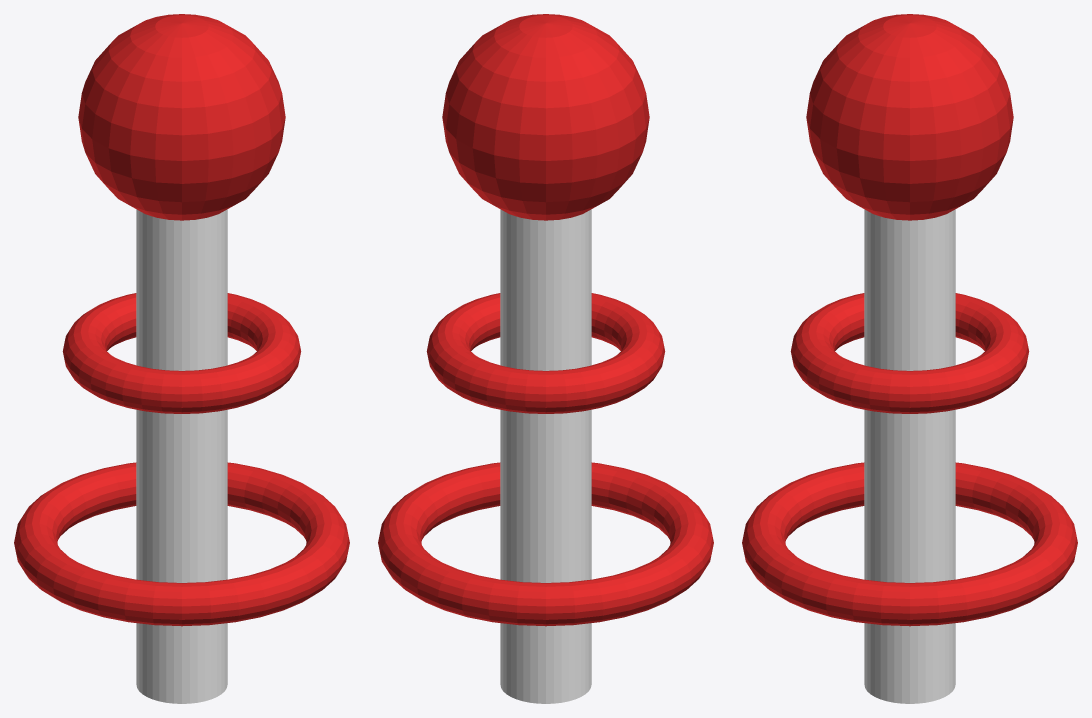
Rendered from antenna.dae.
The picture shows the model from 3 angles, left to right: view 1: azimuth 30°, elevation 25°; view 2: azimuth 150°, elevation 25°; view 3: azimuth 270°, elevation 25°; orthographic projection.
Visible parts, largest first — view 1: Cylinder.1, Sphere, Torus.1, Torus; view 2: Cylinder.1, Sphere, Torus.1, Torus; view 3: Cylinder.1, Sphere, Torus.1, Torus.
Part boxes in pixels (<box>): Cylinder.1: <box>136,209,227,703</box>; Sphere: <box>78,14,285,220</box>; Torus.1: <box>14,462,349,626</box>; Torus: <box>62,293,301,413</box>; Cylinder.1: <box>500,209,591,703</box>; Sphere: <box>442,14,649,220</box>; Torus.1: <box>378,462,713,626</box>; Torus: <box>426,293,665,413</box>; Cylinder.1: <box>864,209,955,703</box>; Sphere: <box>806,14,1013,220</box>; Torus.1: <box>742,462,1077,626</box>; Torus: <box>790,293,1029,413</box>.
Bounding box in the file's own units: 369 × 803 × 369.
